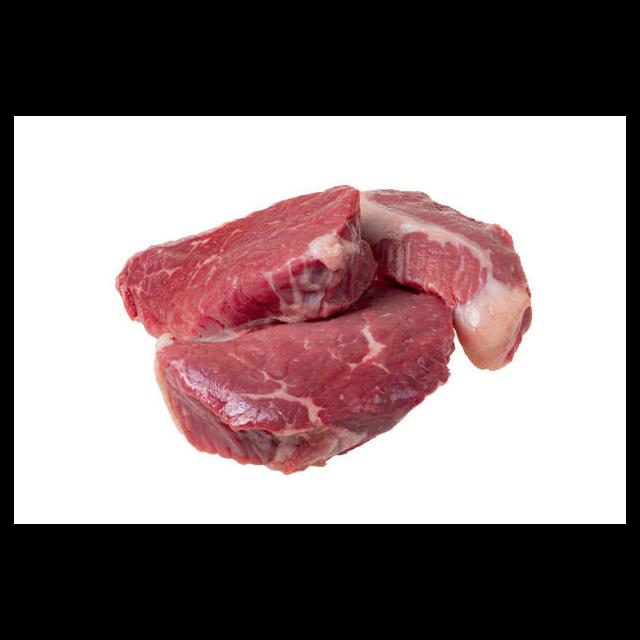beef: (114, 182, 536, 476)
